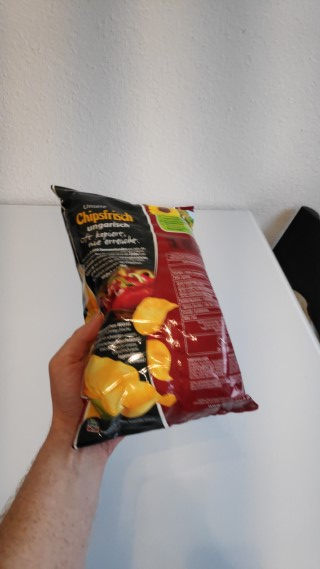chipsfrisch: (51, 182, 261, 451)
